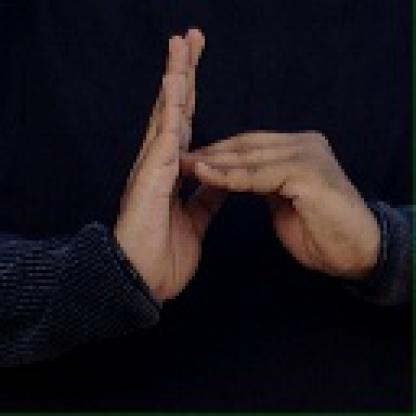Z: (115, 21, 351, 318)
